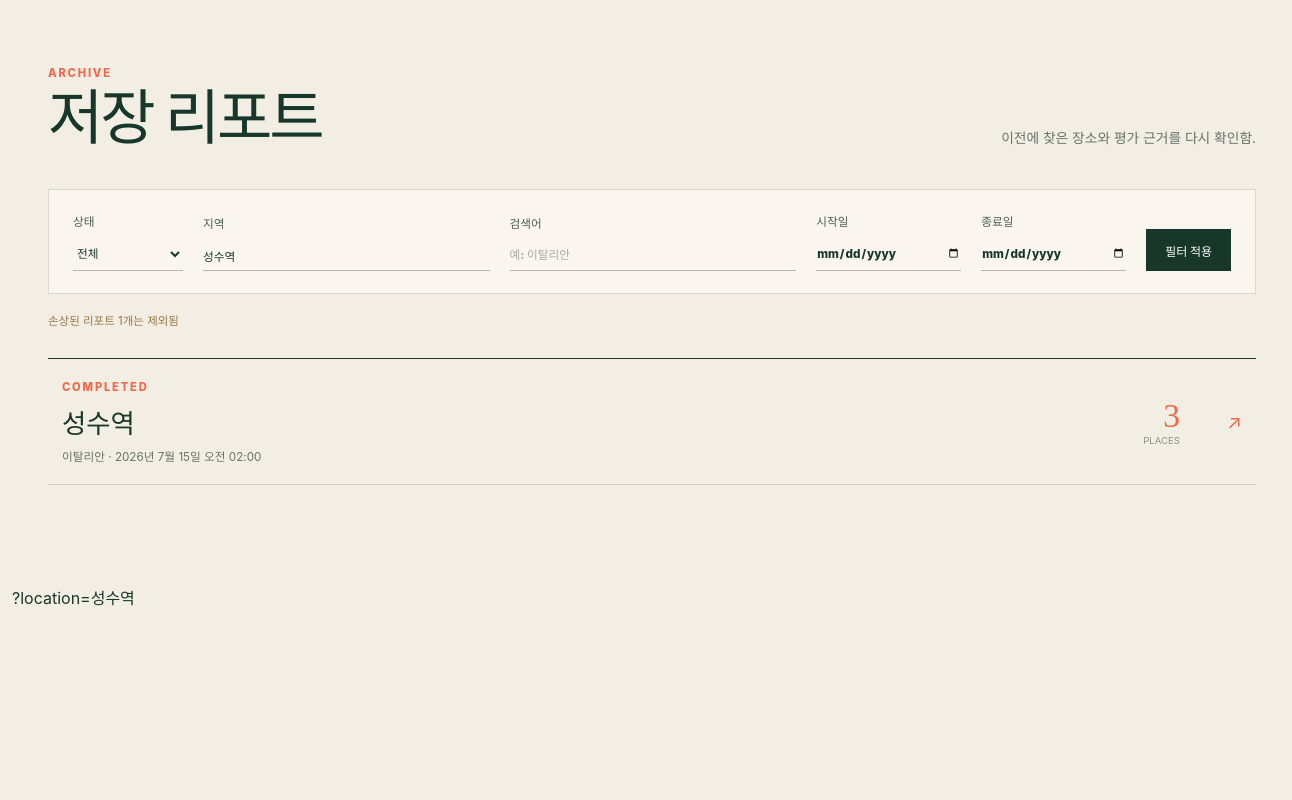
ReportsPage › hydrates filters from the URL and writes submitted filters back
Expected: the field labelled "지역" holds "성수역", [203,240,490,271]
Expected: the text "손상된 리포트 1개는 제외됨" is shown, [48,314,179,328]
Type "이탈리안" into the field labelled "검색어" at (653, 256), box [510,240,796,271]
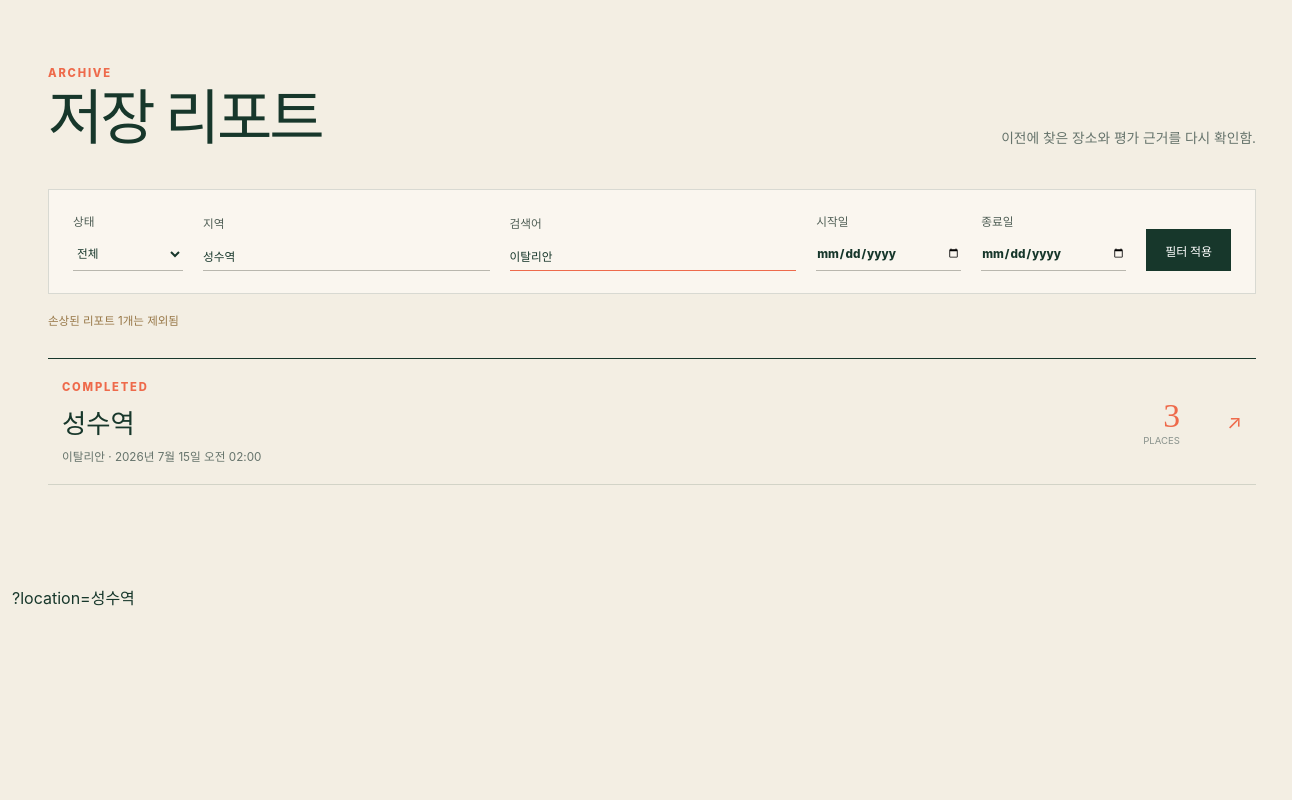
Click the button "필터 적용" at (1189, 250), box [1146,229,1231,271]
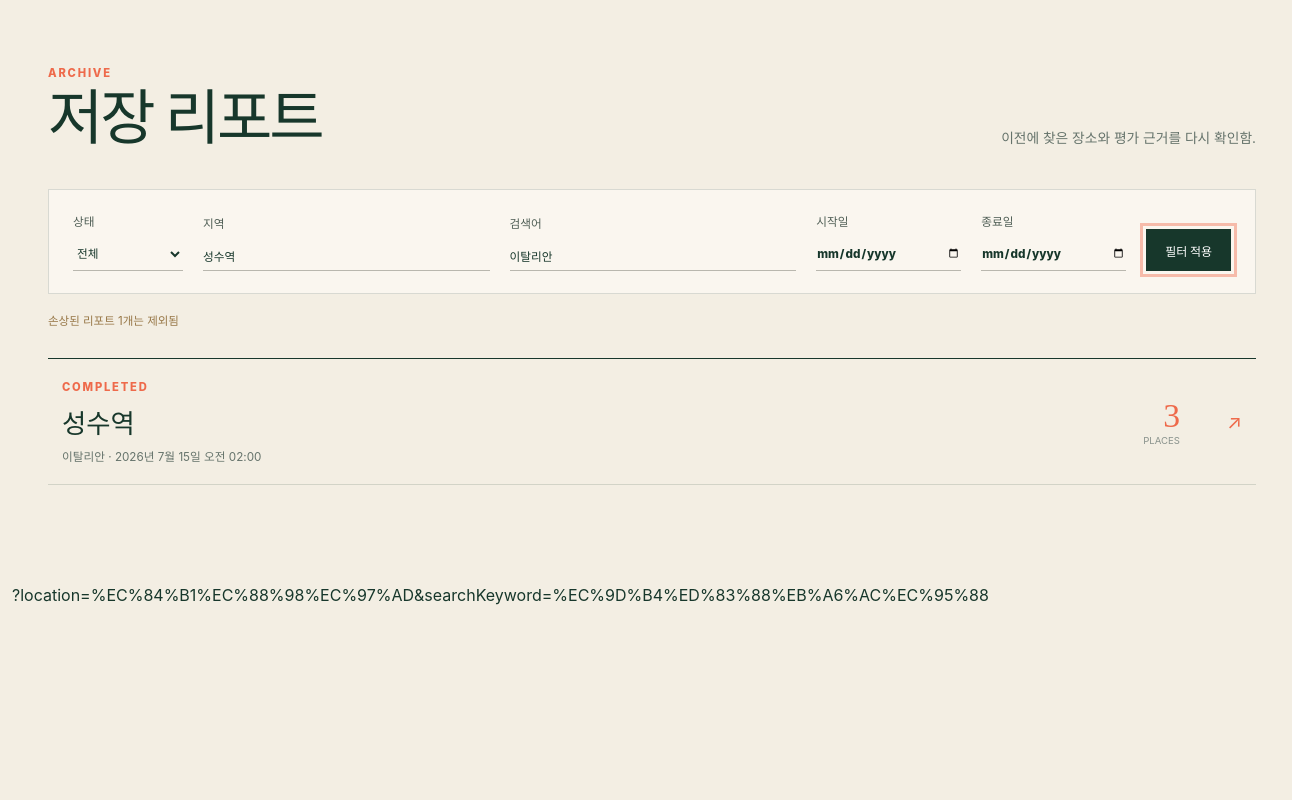
Result: the text with test id "search" shows "?location=%EC%84%B1%EC%88%98%EC%97%AD&searchKeyword=%EC%9D%B4%ED%83%88%EB%A6%AC%EC%95%88" at [12,585,989,605]
